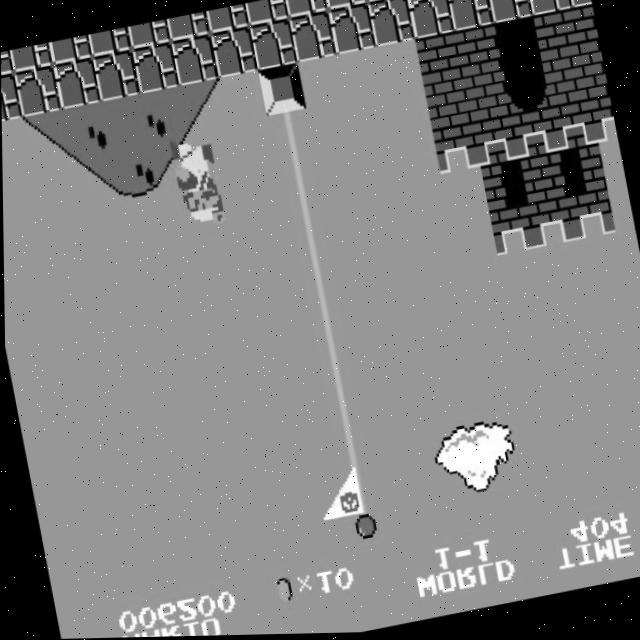1- brick_block: (532, 10, 581, 63)
17- undestructible_block: (52, 57, 101, 110), (170, 34, 219, 87), (209, 26, 258, 79), (327, 3, 376, 56), (13, 64, 61, 117), (92, 49, 140, 102), (131, 41, 179, 94), (249, 18, 297, 71), (288, 11, 336, 63), (367, 0, 415, 49), (406, 0, 455, 41), (445, 0, 493, 33), (9, 42, 53, 73), (48, 34, 92, 65), (127, 19, 171, 50), (166, 11, 210, 42), (87, 27, 132, 57), (205, 4, 249, 34), (484, 0, 532, 26), (245, 0, 289, 27), (1, 72, 21, 124), (524, 0, 572, 18), (284, 0, 328, 19), (323, 0, 367, 11), (1, 50, 13, 80), (563, 0, 591, 10), (362, 0, 406, 4)
4- fire_mario: (166, 133, 226, 234)
7- goal_pole: (308, 333, 357, 386), (299, 288, 348, 341), (282, 198, 331, 251), (325, 423, 374, 475), (316, 378, 365, 430), (265, 109, 314, 161), (342, 512, 390, 565), (334, 467, 382, 520), (274, 154, 322, 206), (291, 244, 339, 295)
9- hard_block: (257, 64, 306, 117)
